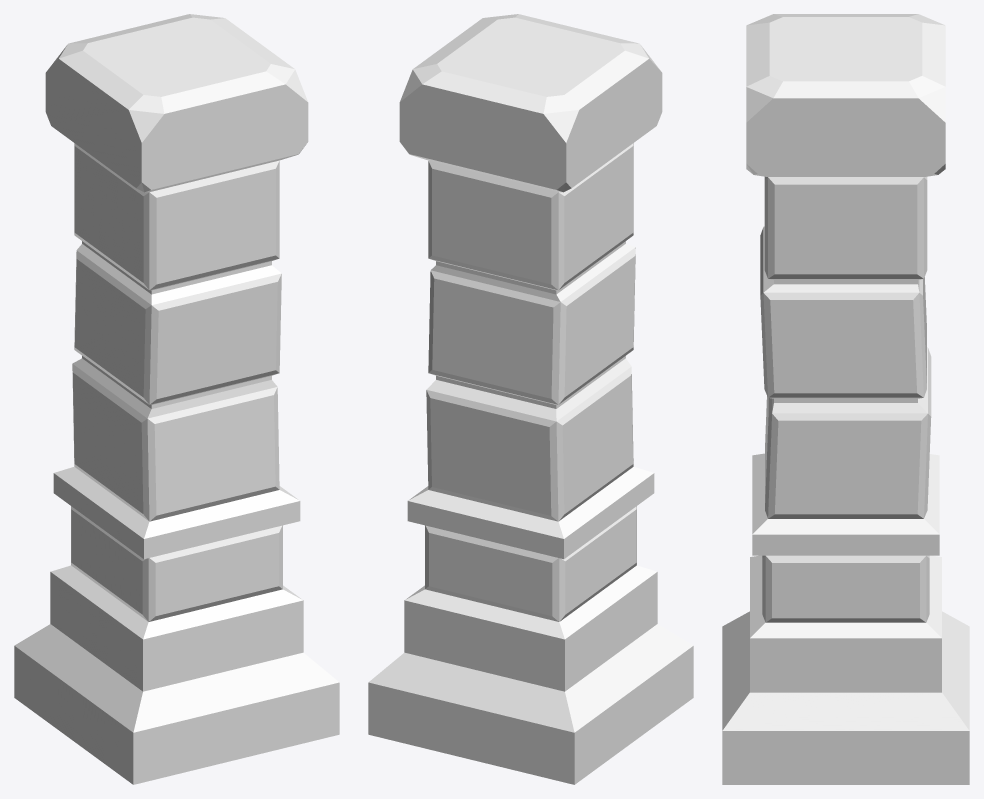
Rendered from Pillar_01_vf.FBX.
The picture shows the model from 3 angles, left to right: view 1: azimuth 30°, elevation 25°; view 2: azimuth 150°, elevation 25°; view 3: azimuth 270°, elevation 25°; orthographic projection. The views are drawn at different scales.
Parts seen in each view (by area): view 1: Box001; view 2: Box001; view 3: Box001.
Part boxes in pixels (left/top/right/bottom): Box001: left=14, top=14, right=339, bottom=784; Box001: left=368, top=14, right=693, bottom=784; Box001: left=722, top=14, right=969, bottom=784.
Bounding box in the file's own units: 131 × 399 × 131.
1 material, 1 textured.
